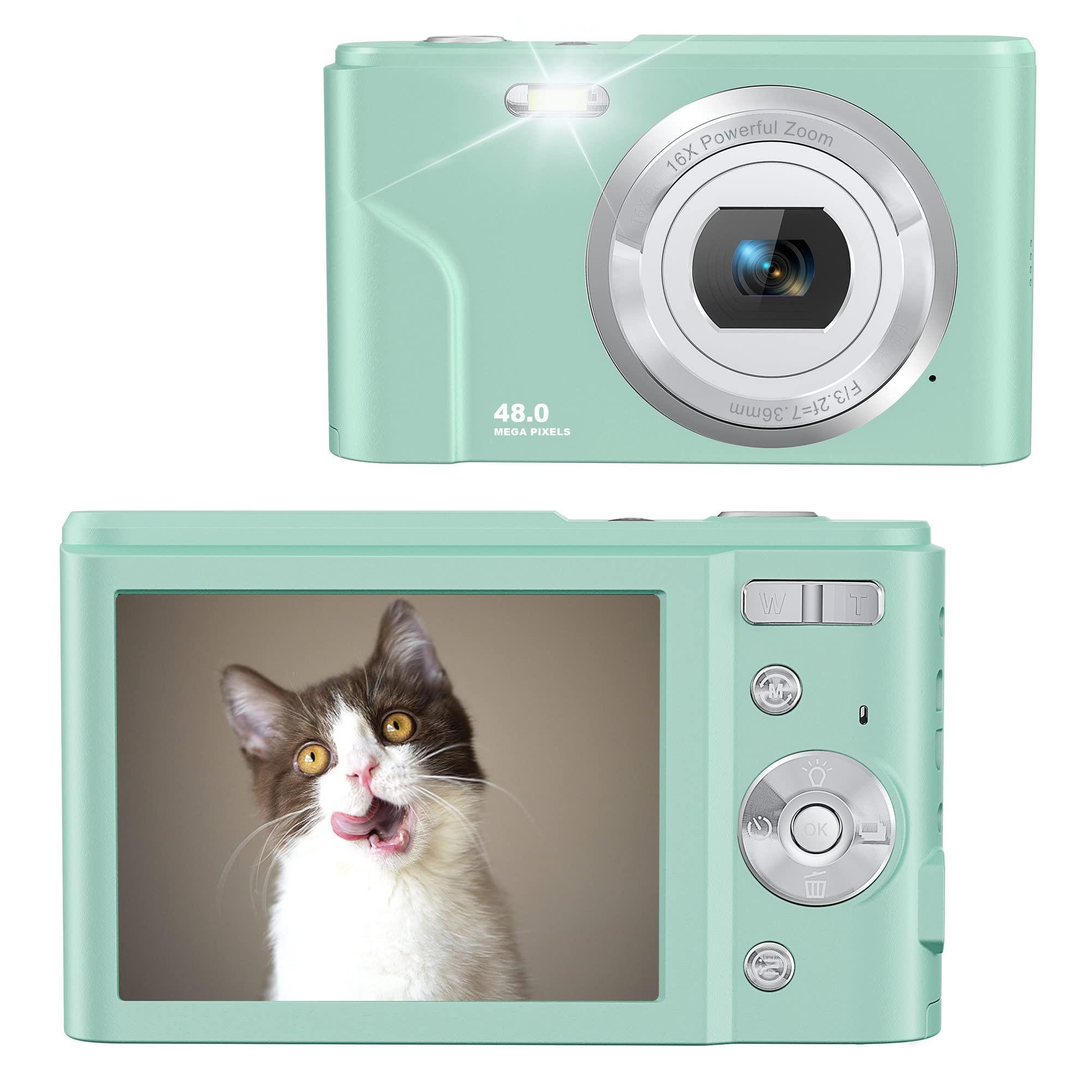degital-camera: (311, 27, 1044, 478)
